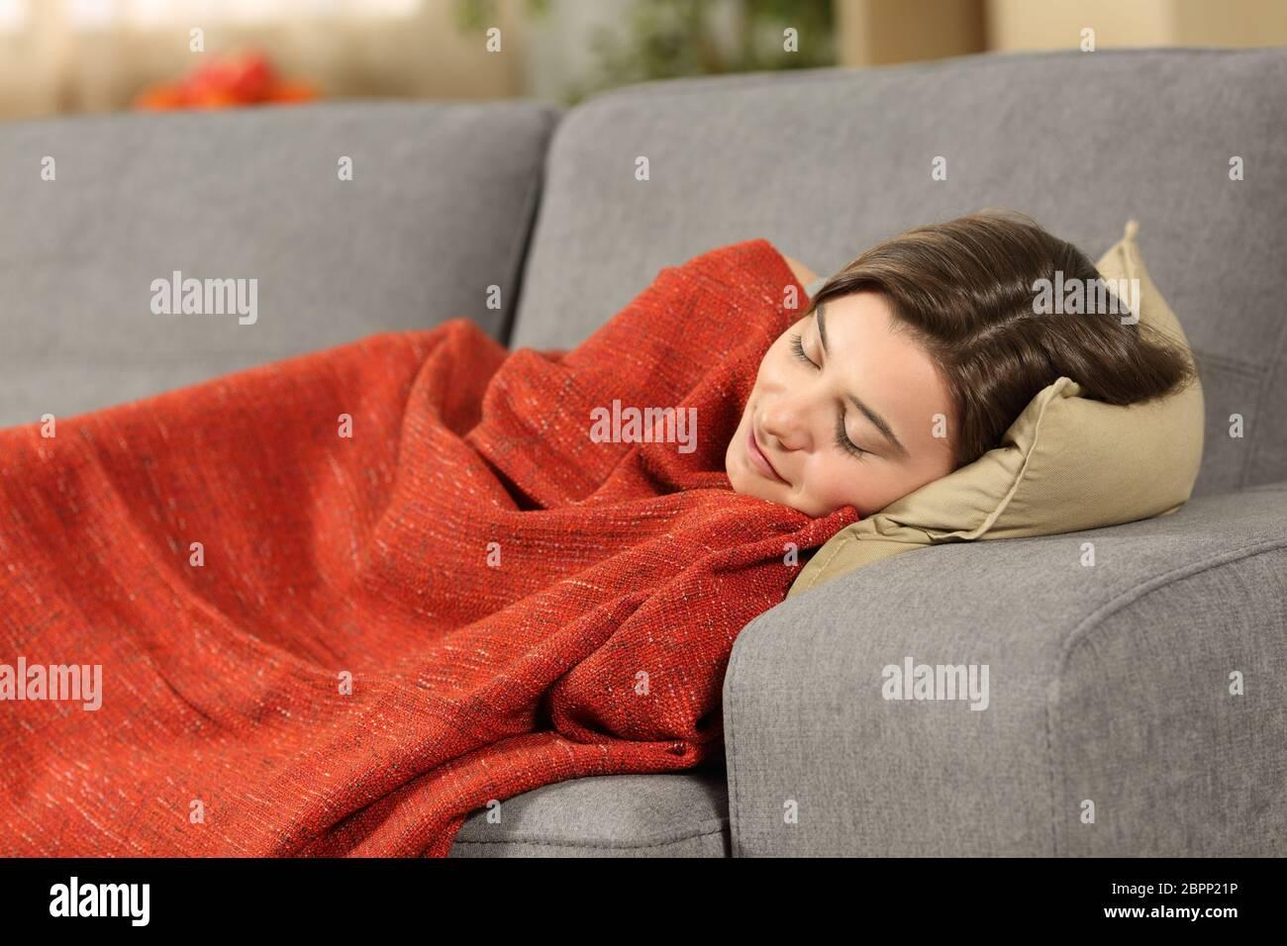blanket: (0, 234, 863, 859)
